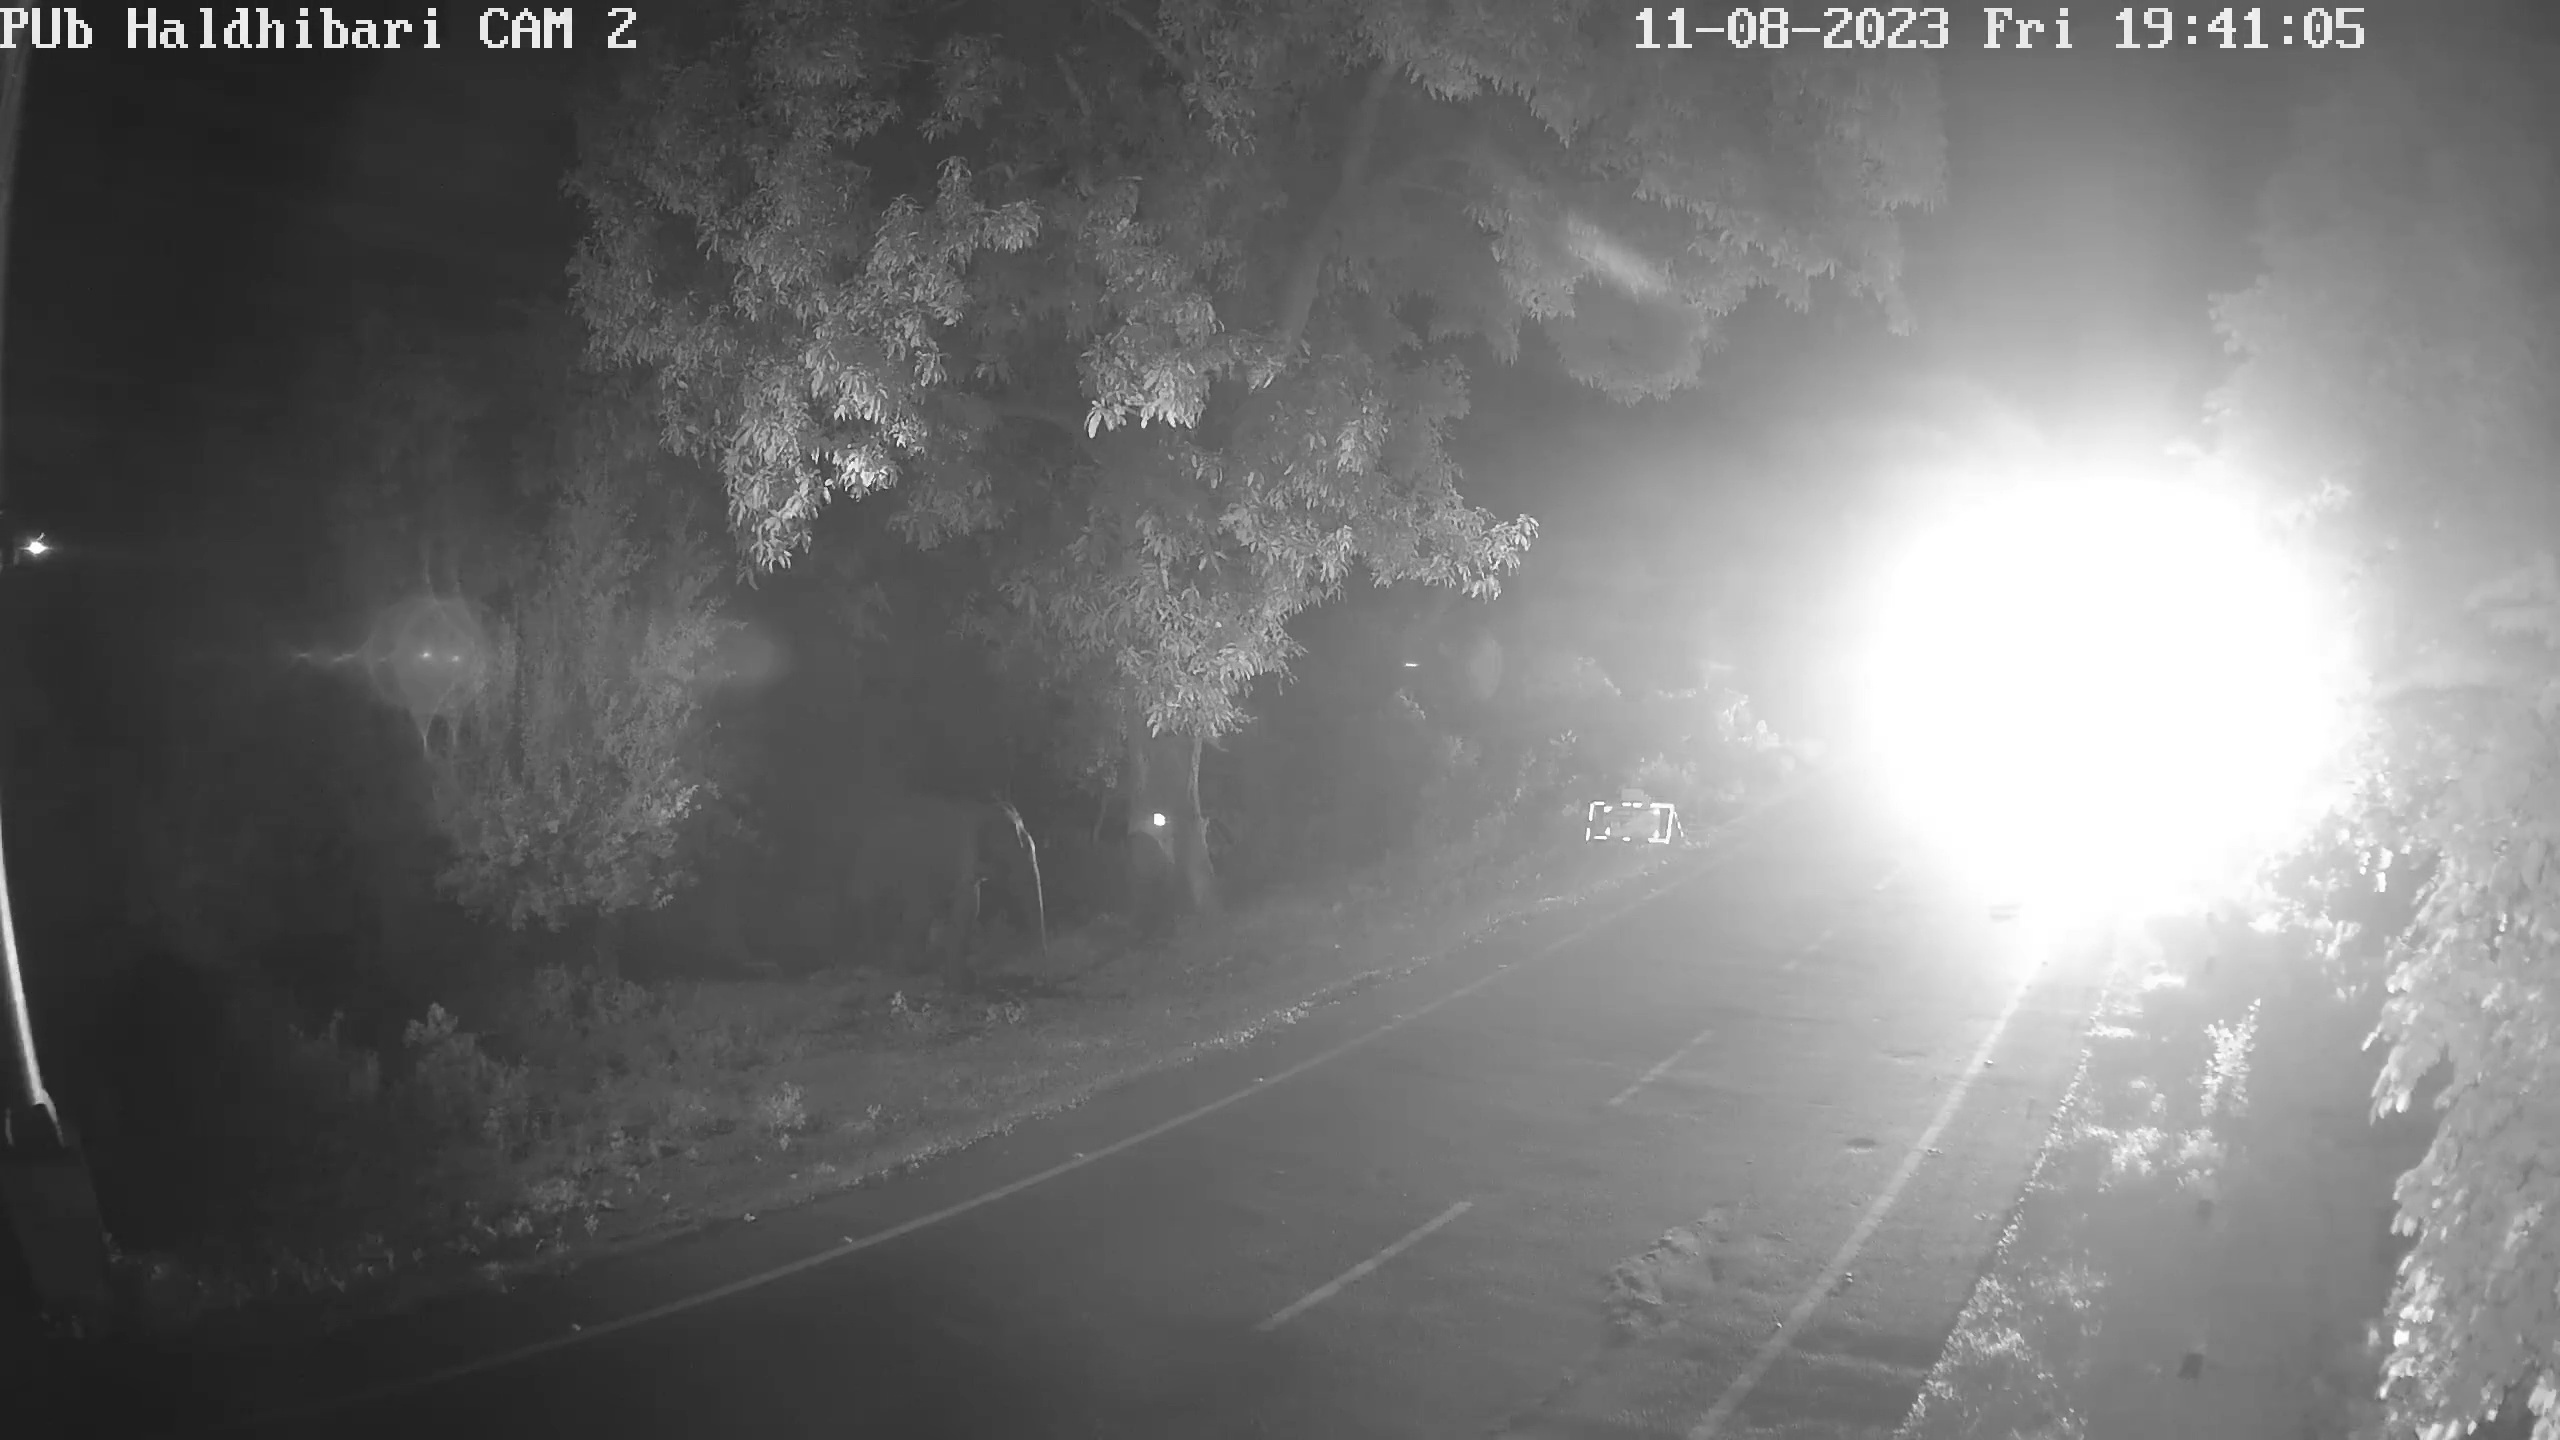elephants: (833, 775, 1048, 978)
